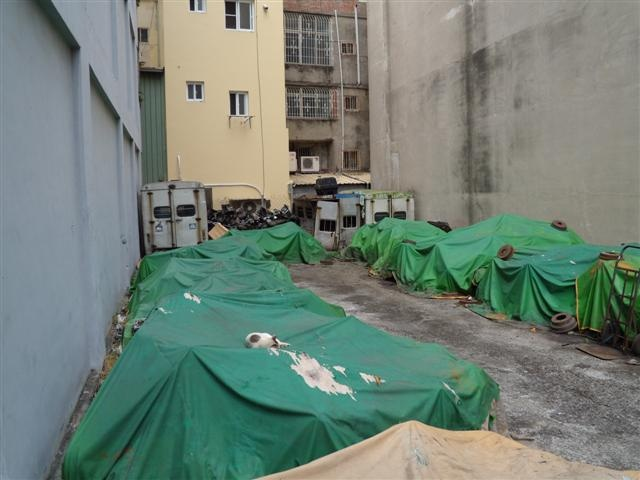plastic_bag: (60, 286, 502, 478), (393, 214, 587, 299), (477, 245, 640, 329), (125, 255, 295, 334), (225, 222, 337, 267), (348, 216, 448, 265)
